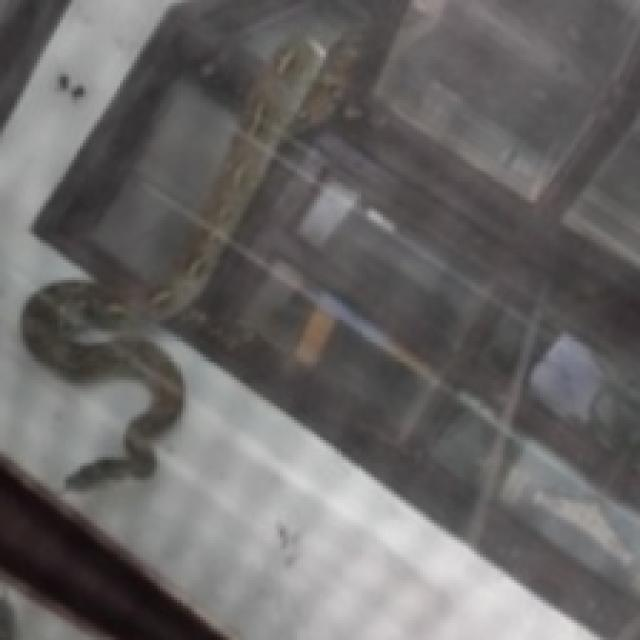reticulated python: (22, 30, 362, 489)
